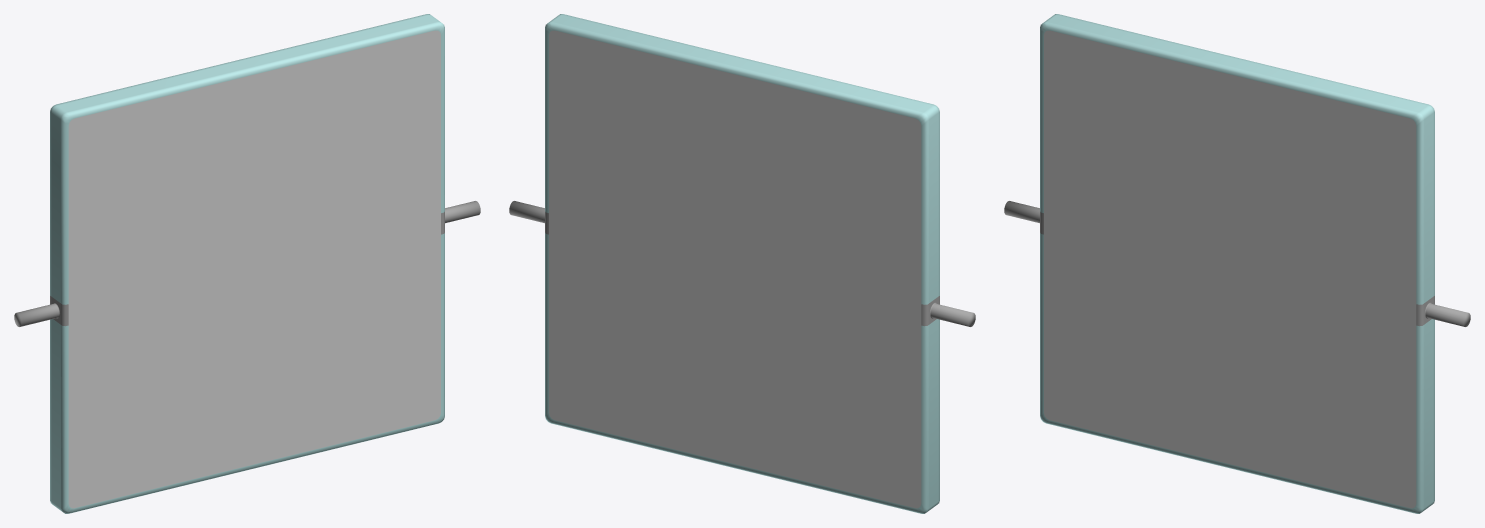
The model's file is LaserMirror.fbx.
3 views of the same model, side by side, from view 1: azimuth 30°, elevation 25°; view 2: azimuth 150°, elevation 25°; view 3: azimuth 330°, elevation 25° (orthographic).
Visible parts, largest first — view 1: Mirror; view 2: Mirror; view 3: Mirror.
Boxes of the visible parts, x1,y1,x2,y2 form: Mirror: (14, 14, 480, 513); Mirror: (509, 14, 975, 513); Mirror: (1004, 14, 1470, 513).
Size of the model in its own units: 1.8 by 1.5 by 0.1.
